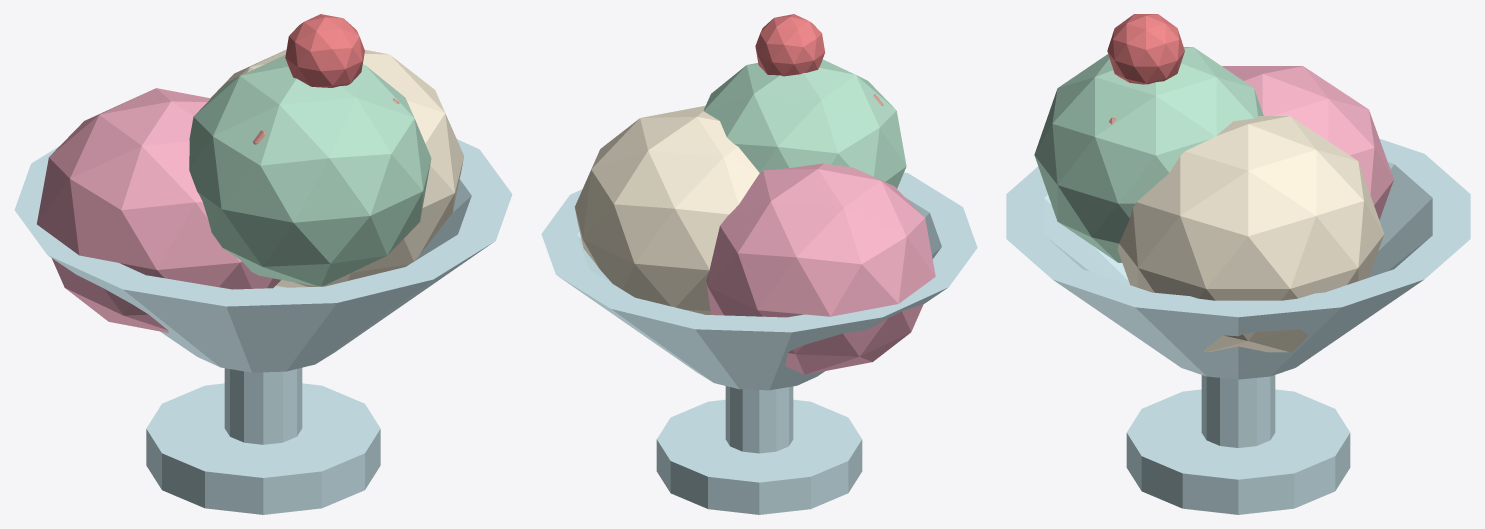
Rendered from IceCream.glb.
3 renders of one model, left to right at view 1: azimuth 30°, elevation 25°; view 2: azimuth 150°, elevation 25°; view 3: azimuth 270°, elevation 25°, orthographic. The views are drawn at different scales.
Visible parts, largest first — view 1: Visual; view 2: Visual; view 3: Visual.
Boxes of the visible parts, x1,y1,x2,y2 form: Visual: (14,14,512,514); Visual: (541,14,977,514); Visual: (1006,14,1470,514).
Bounding box in the file's own units: 0.49 × 0.52 × 0.4777.
